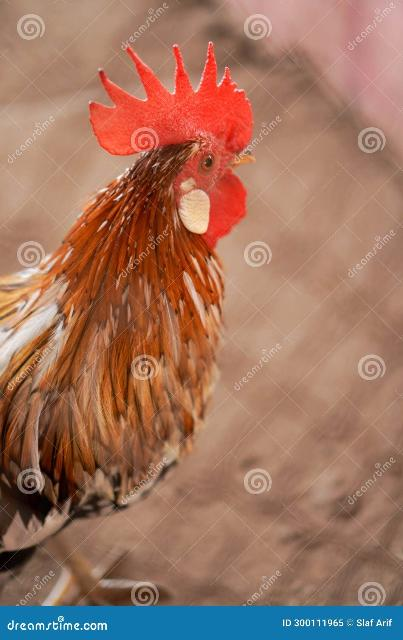Chicken: (1, 44, 255, 573)
